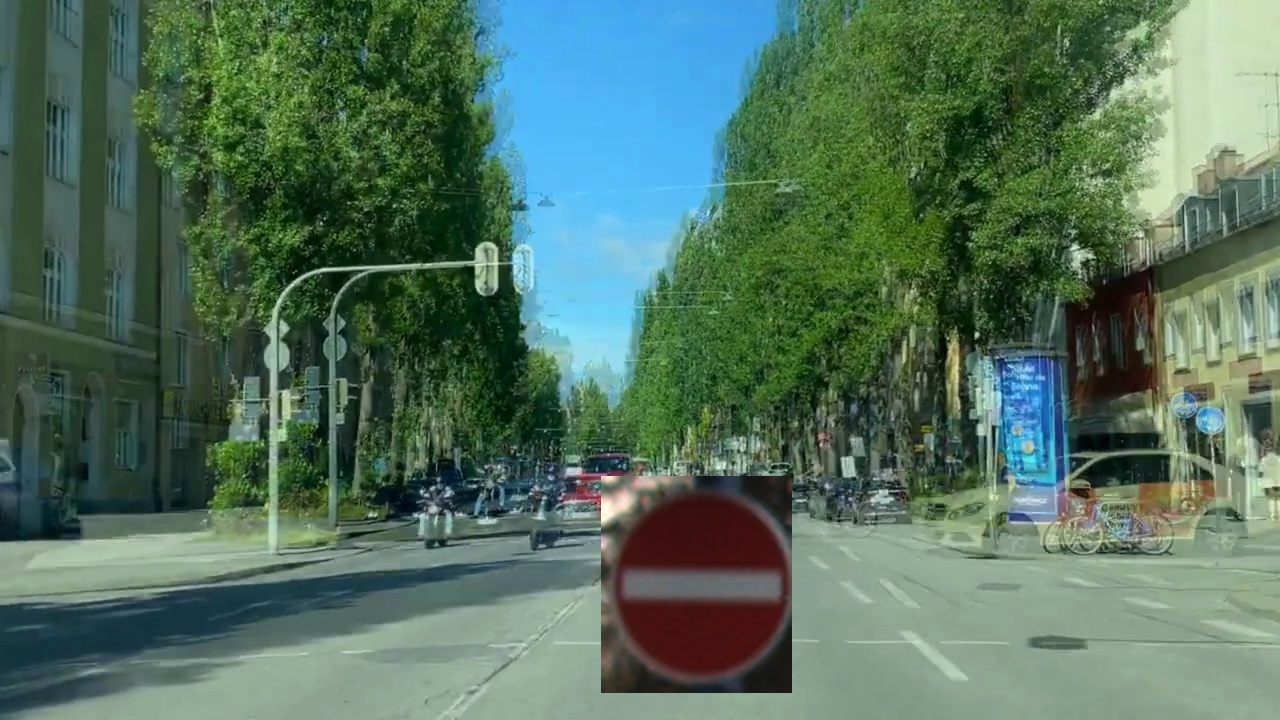No entry: (601, 476, 792, 693)
